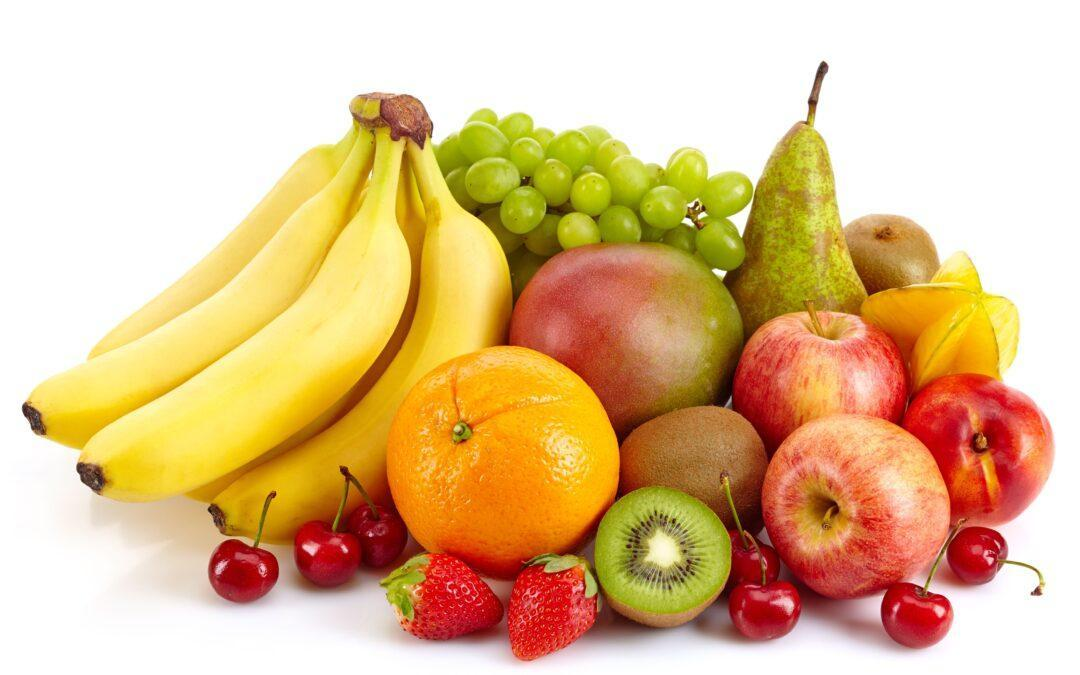apple: (757, 411, 953, 603), (734, 302, 906, 452), (899, 372, 1052, 528)
